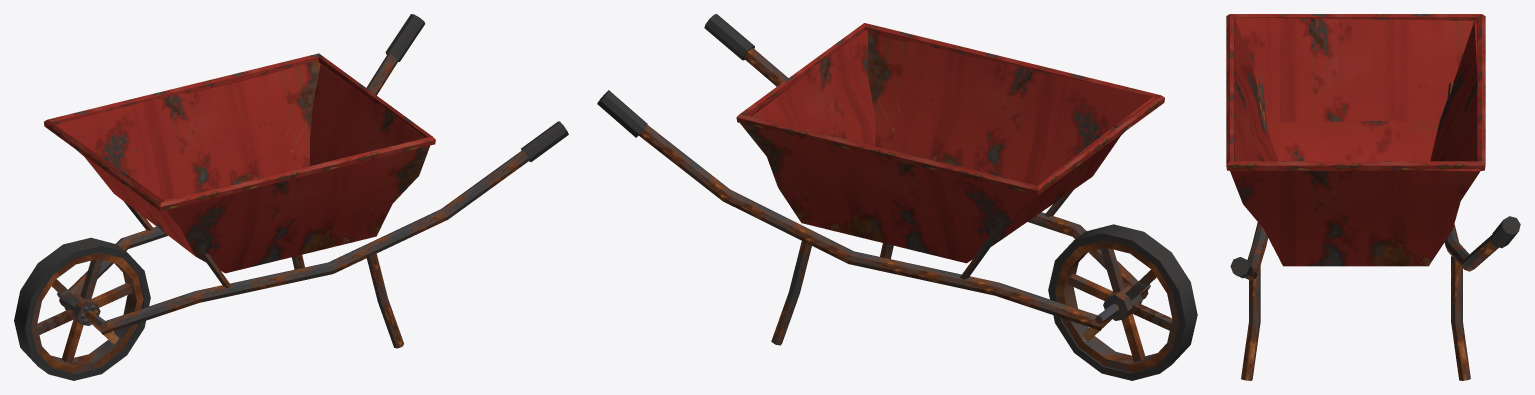
File: Broken_Wheelbarrow.glb
3 renders of one model, left to right at view 1: azimuth 30°, elevation 25°; view 2: azimuth 150°, elevation 25°; view 3: azimuth 270°, elevation 25°, orthographic. The views are drawn at different scales.
Parts seen in each view (by area): view 1: Broken_Wheelbarrow; view 2: Broken_Wheelbarrow; view 3: Broken_Wheelbarrow.
Part boxes in pixels (x1,y1,x2,y2): Broken_Wheelbarrow: (14,14,568,380); Broken_Wheelbarrow: (597,14,1197,380); Broken_Wheelbarrow: (1226,14,1520,380).
Bounding box in the file's own units: 1.57 × 0.6486 × 0.7282.
4 materials, 3 textured.
